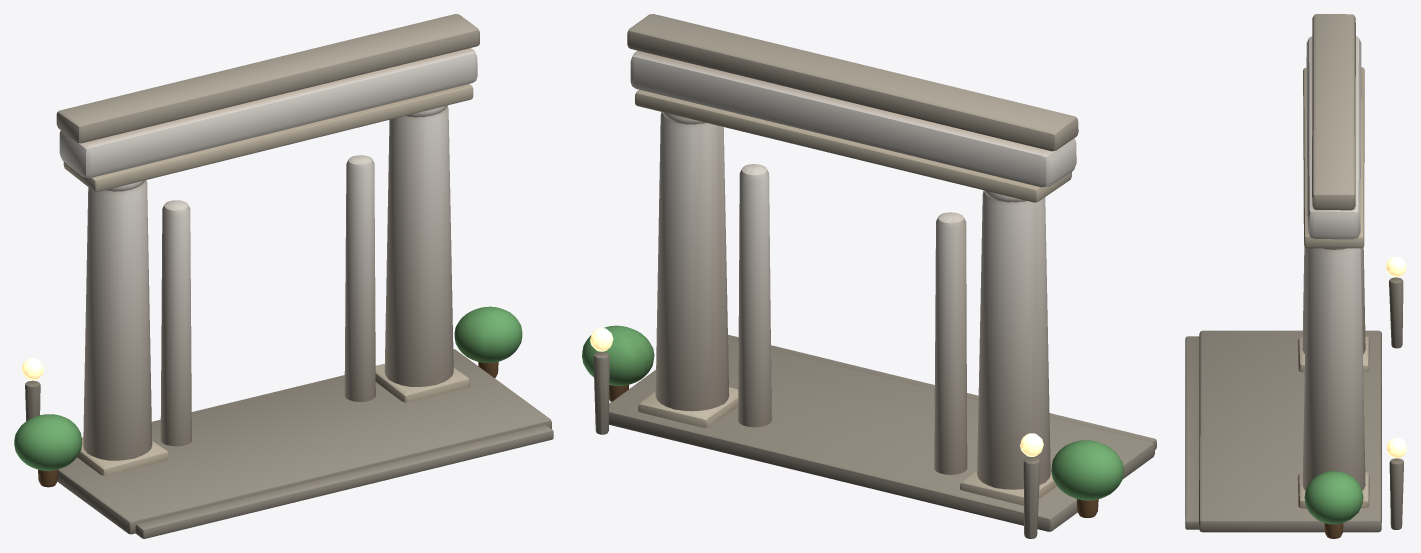
3 views of the same model, side by side, from view 1: azimuth 30°, elevation 25°; view 2: azimuth 150°, elevation 25°; view 3: azimuth 270°, elevation 25° (orthographic). The views are drawn at different scales.
Visible parts, largest first — view 1: gate_ae966a19; view 2: gate_ae966a19; view 3: gate_ae966a19.
Boxes of the visible parts, box(x1,y1,x2,y2) form: gate_ae966a19: box(14, 14, 553, 538); gate_ae966a19: box(582, 14, 1156, 538); gate_ae966a19: box(1185, 14, 1406, 538).
Size of the model in its own units: 6.14 by 4.25 by 2.55.
